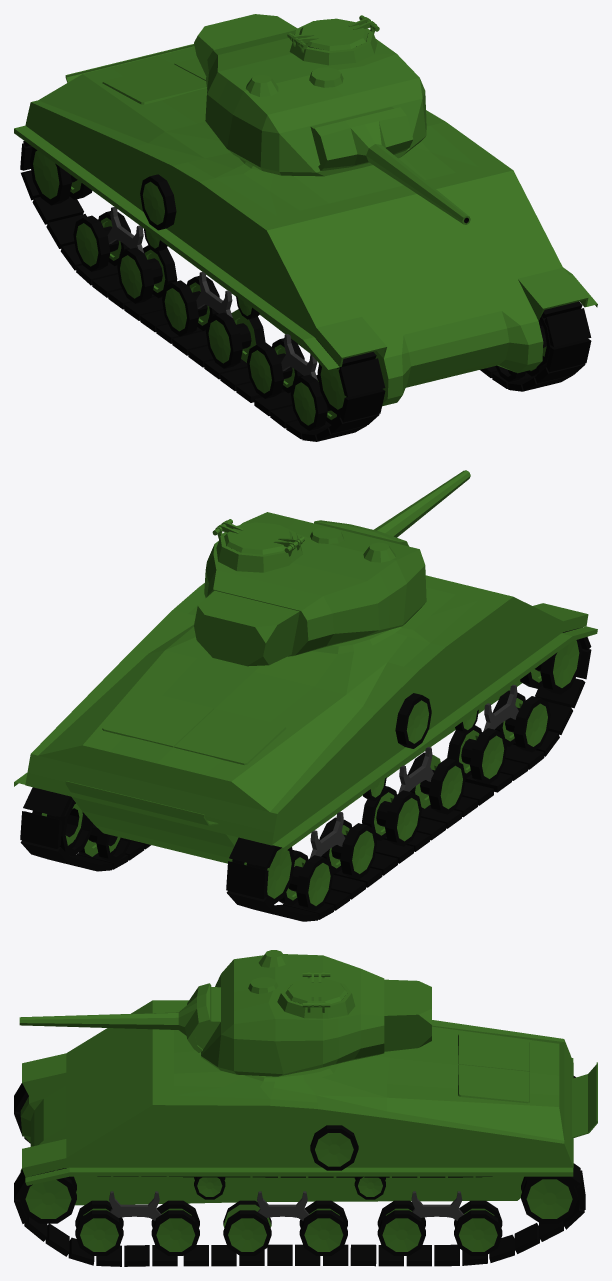
3 renders of one model, top to bottom at view 1: azimuth 30°, elevation 25°; view 2: azimuth 150°, elevation 25°; view 3: azimuth 270°, elevation 25°, orthographic. The views are drawn at different scales.
Visible parts, largest first — view 1: Plane.010, Cylinder.002, Plane.011, Plane.012, Plane.013, Plane.014; view 2: Plane.010, Cylinder.002, Plane.011, Plane.012, Plane.013, Plane.014; view 3: Plane.010, Cylinder.002, Plane.011, Plane.012, Plane.014, Plane.013.
Boxes of the visible parts, box(x1,y1,x2,y2) form: Plane.010: box(14, 44, 597, 406); Cylinder.002: box(20, 141, 591, 441); Plane.011: box(194, 14, 426, 176); Plane.012: box(313, 107, 470, 224); Plane.013: box(292, 20, 350, 50); Plane.014: box(317, 18, 374, 48); Plane.010: box(14, 575, 597, 863); Cylinder.002: box(20, 627, 591, 921); Plane.011: box(194, 512, 426, 666); Plane.012: box(314, 470, 470, 546); Plane.013: box(241, 524, 300, 554); Plane.014: box(217, 521, 274, 552); Plane.010: box(20, 1000, 597, 1205); Cylinder.002: box(14, 1076, 585, 1266); Plane.011: box(195, 950, 431, 1076); Plane.012: box(19, 983, 211, 1052); Plane.014: box(285, 989, 347, 1007); Plane.013: box(288, 971, 345, 990).
Size of the model in its own units: 301 by 299 by 648.
